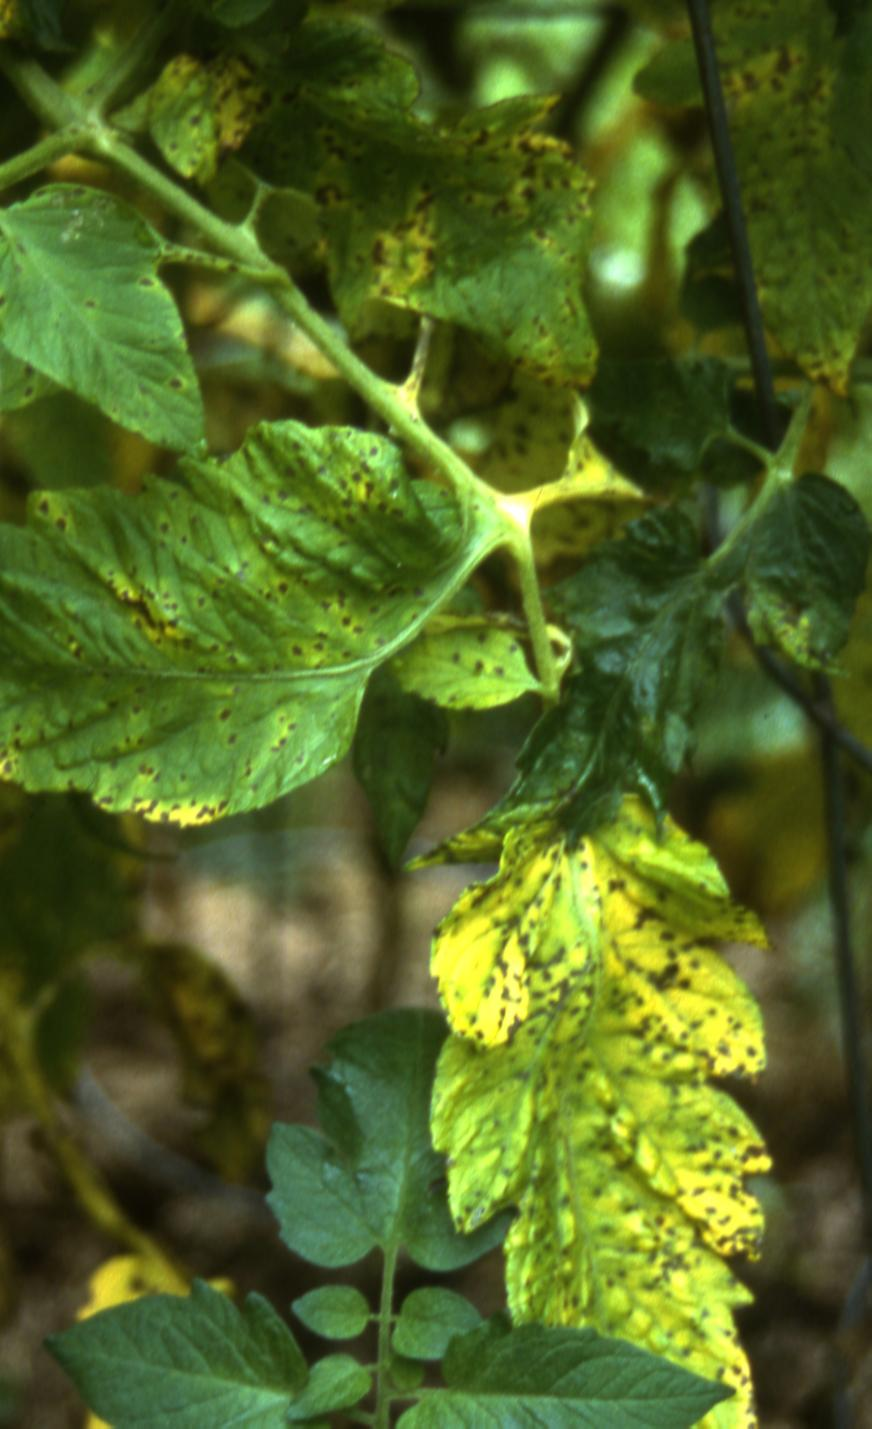Tomato Septoria leaf spot: (414, 694, 779, 1429), (0, 379, 547, 861), (0, 127, 251, 478)
